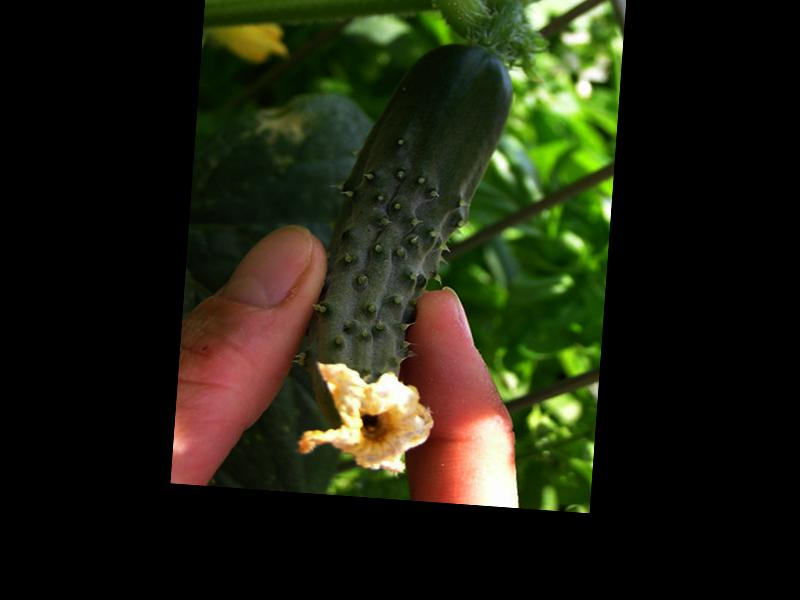Cucumber: (296, 32, 513, 478)
